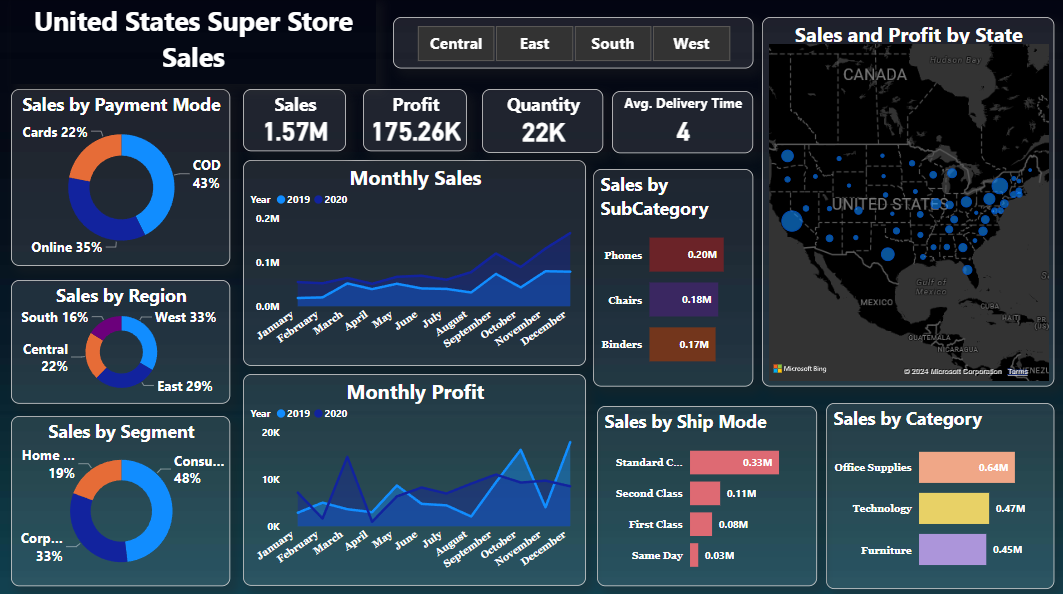

Layout of this report page (visuals, bound fields, positions):
{"tool":"powerbi","page":{"name":"Page 1","canvas":[1280,720],"ordinal":0},"visuals":[{"type":"clusteredBarChart","title":"Sales by Category","fields":{"Category":["SuperStore_Sales_Dataset.Category"],"Y":["Sum(SuperStore_Sales_Dataset.Sales)"]},"box":[994.5,487.6,274.5,223.9],"z":0},{"type":"clusteredBarChart","title":"Sales by SubCategory","fields":{"Y":["Sum(SuperStore_Sales_Dataset.Sales)"],"Category":["SuperStore_Sales_Dataset.Sub-Category"]},"box":[714,205.9,192.6,262.5],"z":1000},{"type":"clusteredBarChart","title":"Sales by Ship Mode","fields":{"Y":["Sum(SuperStore_Sales_Dataset.Sales)"],"Category":["SuperStore_Sales_Dataset.Ship Mode"]},"box":[718.8,491.2,264.9,216.7],"z":2000},{"type":"areaChart","title":"Monthly Sales","fields":{"Y":["Sum(SuperStore_Sales_Dataset.Sales)"],"Category":["SuperStore_Sales_Dataset.Order Date.Variation.Date Hierarchy.Month","SuperStore_Sales_Dataset.Order Date.Variation.Date Hierarchy.Day"],"Series":["SuperStore_Sales_Dataset.Order Date.Variation.Date Hierarchy.Year"]},"box":[292.6,195.1,413,248],"z":3000},{"type":"areaChart","title":"Monthly Profit","fields":{"Category":["SuperStore_Sales_Dataset.Order Date.Variation.Date Hierarchy.Month","SuperStore_Sales_Dataset.Order Date.Variation.Date Hierarchy.Day"],"Series":["SuperStore_Sales_Dataset.Order Date.Variation.Date Hierarchy.Year"],"Y":["Sum(SuperStore_Sales_Dataset.Profit)"]},"box":[292.6,452.7,413,255.3],"z":4000},{"type":"map","title":"Sales and Profit by State","fields":{"Category":["SuperStore_Sales_Dataset.State"],"Size":["Sum(SuperStore_Sales_Dataset.Sales)"]},"box":[917.5,22.9,351.6,445.5],"z":5000},{"type":"donutChart","title":"Sales by Segment","fields":{"Category":["SuperStore_Sales_Dataset.Segment"],"Y":["Sum(SuperStore_Sales_Dataset.Sales)"]},"box":[13.2,503.3,263.7,204.7],"z":6000},{"type":"donutChart","title":"Sales by Region","fields":{"Category":["SuperStore_Sales_Dataset.Region"],"Y":["Sum(SuperStore_Sales_Dataset.Sales)"]},"box":[13.2,339.5,263.7,149.3],"z":7000},{"type":"donutChart","title":"Sales by Payment Mode","fields":{"Category":["SuperStore_Sales_Dataset.Payment Mode"],"Y":["Sum(SuperStore_Sales_Dataset.Sales)"]},"box":[13.2,109.6,263.7,213.1],"z":8000},{"type":"slicer","fields":{"Values":["SuperStore_Sales_Dataset.Region"]},"box":[473.5,23.4,433.5,61.9],"z":9000},{"type":"textbox","box":[13.8,0,439.1,103.2],"z":10000},{"type":"card","title":"Sales","fields":{"Values":["Sum(SuperStore_Sales_Dataset.Sales)"]},"box":[292.6,109.6,124,74.6],"z":11000},{"type":"card","title":"Quantity","fields":{"Values":["Sum(SuperStore_Sales_Dataset.Quantity)"]},"box":[580.3,109.6,145.7,77.1],"z":12000},{"type":"card","title":"Profit","fields":{"Values":["Sum(SuperStore_Sales_Dataset.Profit)"]},"box":[437.1,109.6,125.2,74.6],"z":13000},{"type":"card","title":"Avg. Delivery Time","fields":{"Values":["Avg(SuperStore_Sales_Dataset.DeliveryTime)"]},"box":[736.9,112,169.8,74.6],"z":14000}]}

Visuals, with their boxes in screenshot pixels (x1, y1, x2, y2), scaled from the page's 1280x720 canvas onto the 1063x594 screenshot:
"Sales by Category" clusteredBarChart: bbox=[826, 402, 1054, 587]
"Sales by SubCategory" clusteredBarChart: bbox=[593, 170, 753, 386]
"Sales by Ship Mode" clusteredBarChart: bbox=[597, 405, 817, 584]
"Monthly Sales" areaChart: bbox=[243, 161, 586, 366]
"Monthly Profit" areaChart: bbox=[243, 373, 586, 584]
"Sales and Profit by State" map: bbox=[762, 19, 1054, 386]
"Sales by Segment" donutChart: bbox=[11, 415, 230, 584]
"Sales by Region" donutChart: bbox=[11, 280, 230, 403]
"Sales by Payment Mode" donutChart: bbox=[11, 90, 230, 266]
slicer - SuperStore_Sales_Dataset.Region: bbox=[393, 19, 753, 70]
textbox: bbox=[11, 0, 376, 85]
"Sales" card: bbox=[243, 90, 346, 152]
"Quantity" card: bbox=[482, 90, 603, 154]
"Profit" card: bbox=[363, 90, 467, 152]
"Avg. Delivery Time" card: bbox=[612, 92, 753, 154]
